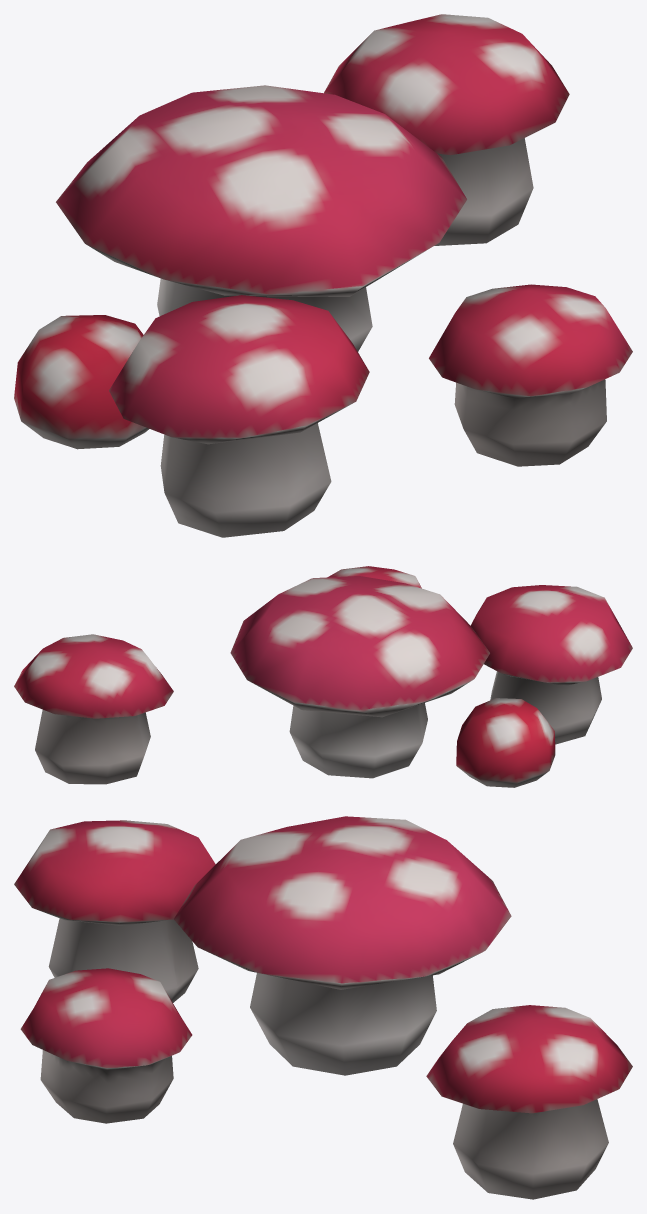
Rendered from Scenery_Shrooms_Smol_Clay.fbx.
3 views of the same model, one above another, from view 1: azimuth 30°, elevation 25°; view 2: azimuth 150°, elevation 25°; view 3: azimuth 270°, elevation 25° (orthographic). The views are drawn at different scales.
Parts seen in each view (by area): view 1: Small_Shrooms_LP; view 2: Small_Shrooms_LP; view 3: Small_Shrooms_LP.
Boxes of the visible parts, box(x1,y1,x2,y2) form: Small_Shrooms_LP: box(14, 14, 632, 537); Small_Shrooms_LP: box(14, 566, 632, 787); Small_Shrooms_LP: box(14, 816, 632, 1199).
Size of the model in its own units: 3.88 by 1.49 by 3.7.
